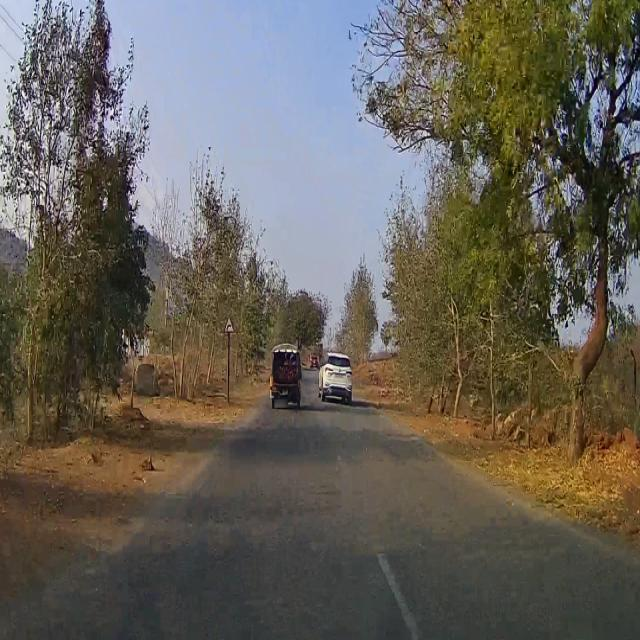right-hand-curve: (224, 315, 234, 331)
